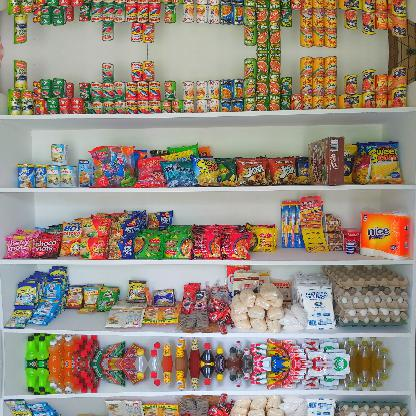Koko-Krunch: (308, 136, 344, 186)
